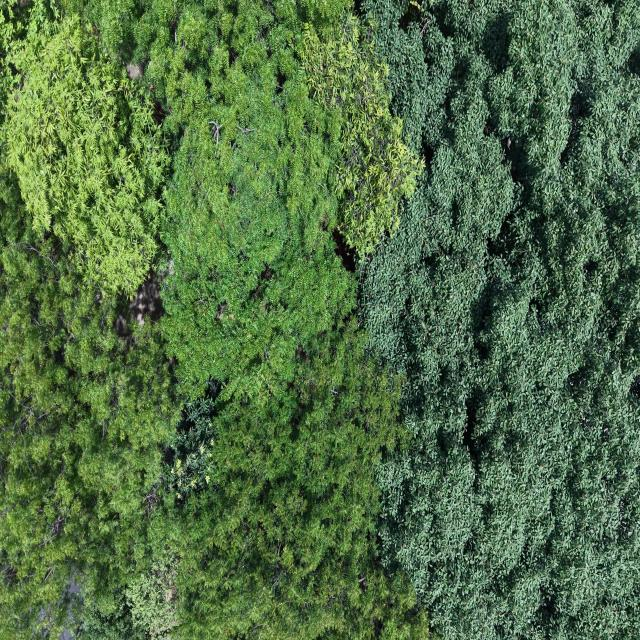VEGETATION_TREE: (0, 0, 639, 639), (2, 2, 427, 638), (140, 2, 426, 638), (362, 0, 639, 639), (0, 4, 178, 637), (143, 2, 417, 397), (165, 320, 426, 638), (148, 3, 355, 397), (0, 174, 176, 635), (4, 17, 169, 296), (302, 15, 421, 256)
